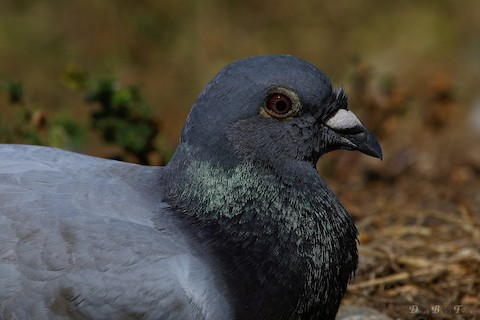pigeon: (1, 49, 391, 318)
